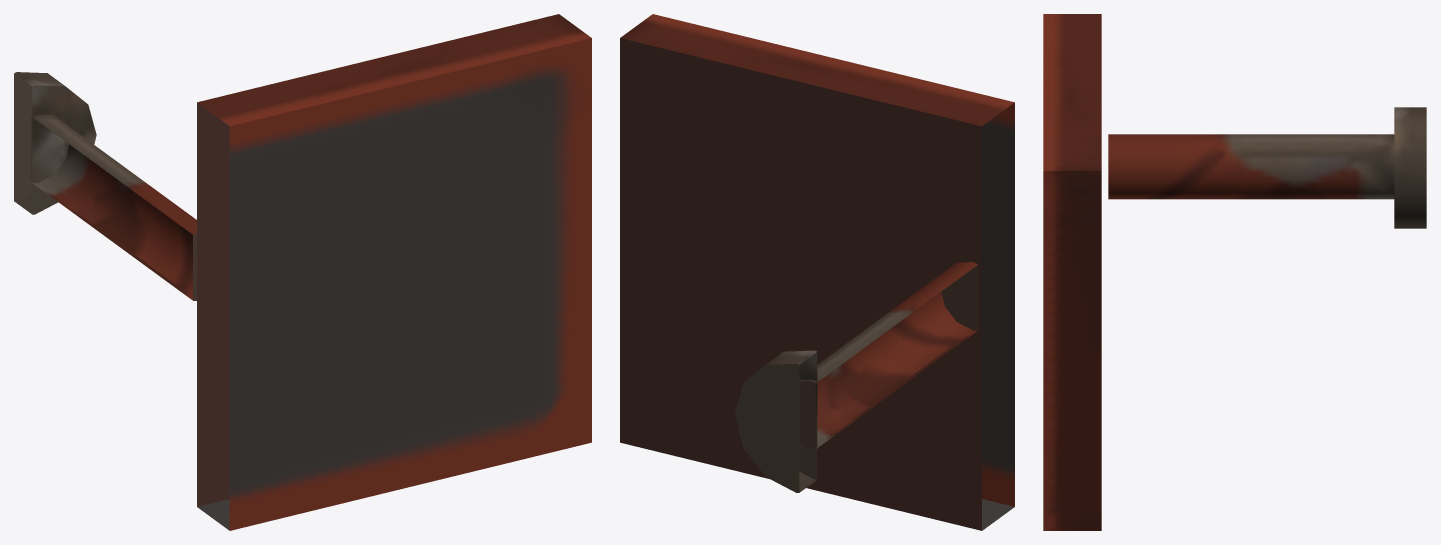
Rendered from section-3.obj.
3 views of the same model, side by side, from view 1: azimuth 30°, elevation 25°; view 2: azimuth 150°, elevation 25°; view 3: azimuth 270°, elevation 25° (orthographic). The views are drawn at different scales.
Bounding box in the file's own units: 0.8957 × 0.9564 × 0.9241.
Materials: 1 (1 with a texture image).
